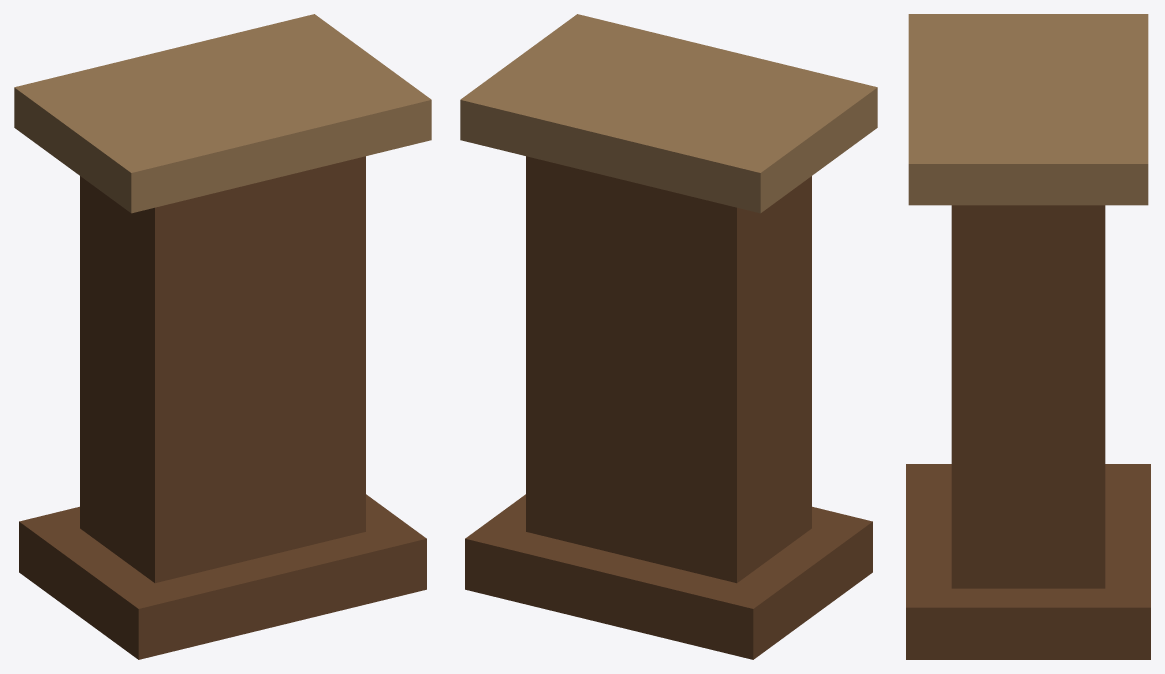
The model's file is stage_podium.glb.
The picture shows the model from 3 angles, left to right: view 1: azimuth 30°, elevation 25°; view 2: azimuth 150°, elevation 25°; view 3: azimuth 270°, elevation 25°; orthographic projection. The views are drawn at different scales.
Parts seen in each view (by area): view 1: stage_podium; view 2: stage_podium; view 3: stage_podium.
Boxes of the visible parts, x1=… form: stage_podium: x1=14, y1=14, x2=431, y2=659; stage_podium: x1=460, y1=14, x2=877, y2=659; stage_podium: x1=906, y1=14, x2=1150, y2=659.
Size of the model in its own units: 0.74 by 1.15 by 0.51.
